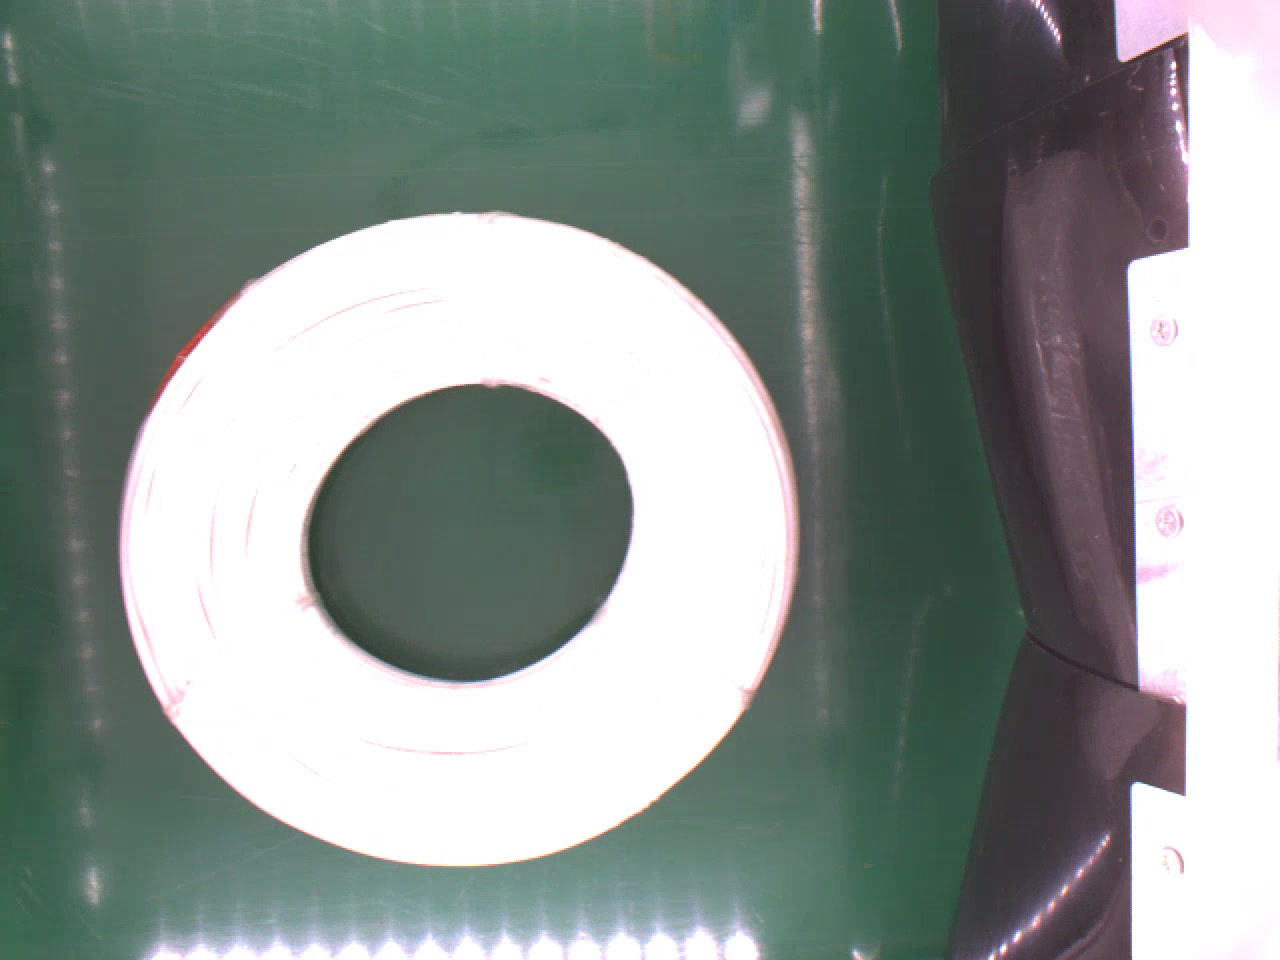white: (108, 204, 810, 867)
